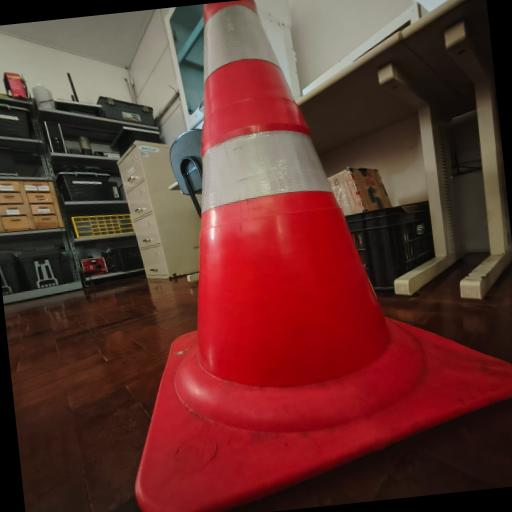cone: (118, 0, 495, 473)
